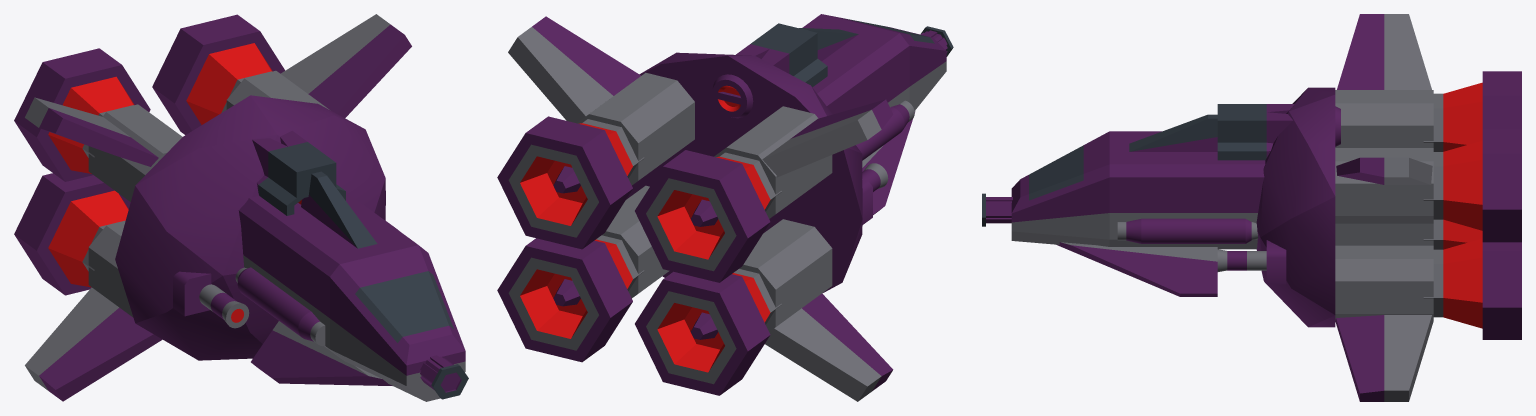
File: spaceship3.glb
3 views of the same model, side by side, from view 1: azimuth 30°, elevation 25°; view 2: azimuth 150°, elevation 25°; view 3: azimuth 270°, elevation 25° (orthographic). The views are drawn at different scales.
Parts seen in each view (by area): view 1: mergedBlocks(Clone); view 2: mergedBlocks(Clone); view 3: mergedBlocks(Clone).
Part boxes in pixels (x1,y1,x2,y2): mergedBlocks(Clone): (14, 14, 468, 401); mergedBlocks(Clone): (497, 14, 953, 401); mergedBlocks(Clone): (982, 14, 1521, 401).
Bounding box in the file's own units: 3.67 × 2.75 × 5.5.
